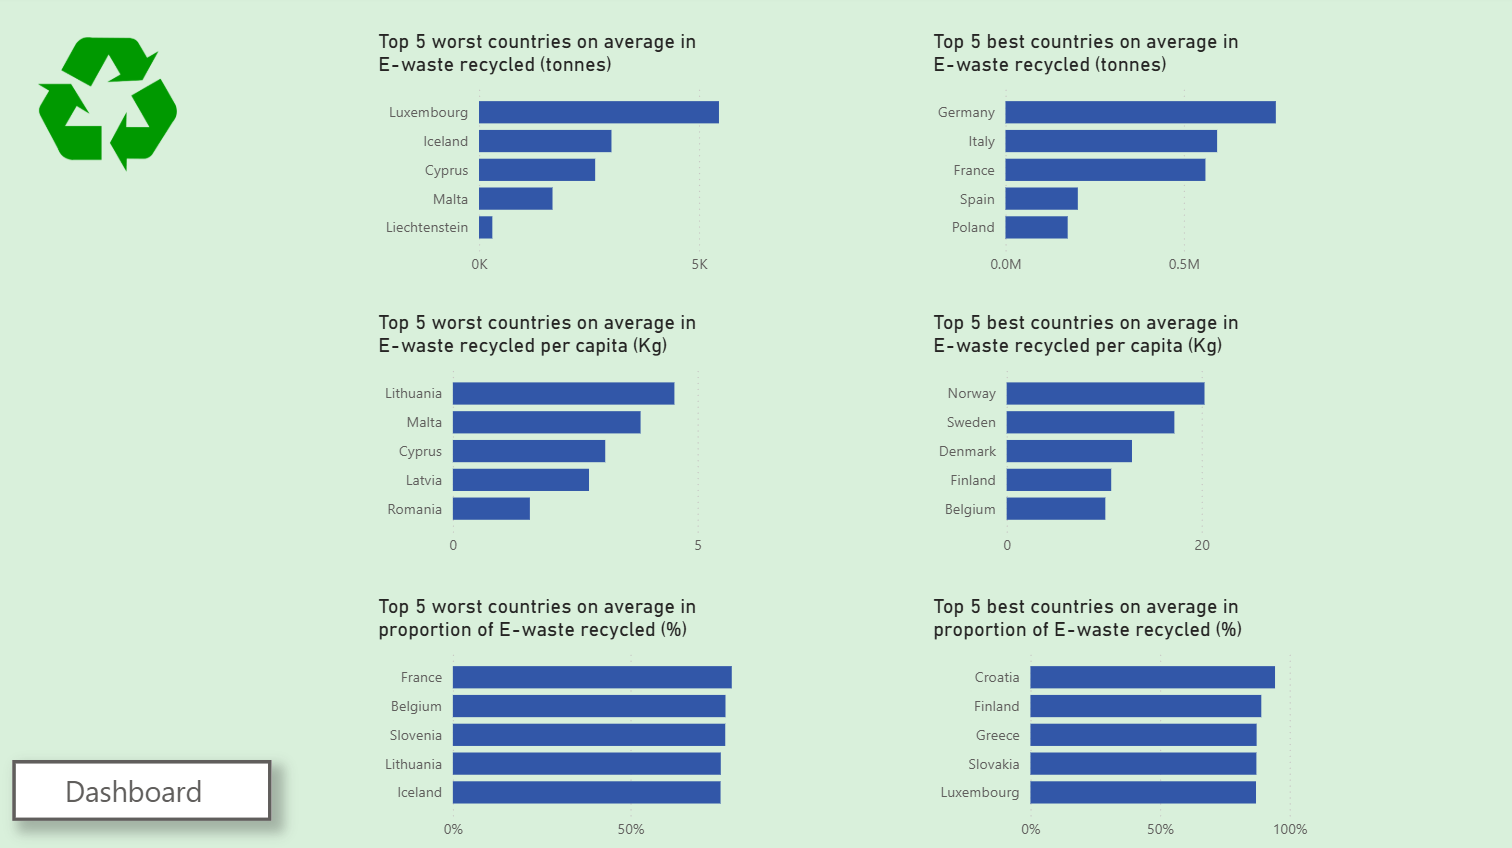

Layout of this report page (visuals, bound fields, positions):
{"tool":"powerbi","page":{"name":"Consistency","canvas":[1280,720],"ordinal":4},"visuals":[{"type":"image","box":[30,28.3,126.7,126.7],"z":0},{"type":"actionButton","box":[13.3,643.7,218.1,51.4],"z":1000},{"type":"clusteredBarChart","title":"Top 5 worst countries on average in E-waste recycled (tonnes)","fields":{"Category":["Electronic Waste Recycled Countries.GeoAreaName"],"Y":["Avg(Electronic Waste Recycled Countries.E_waste_recycled_tonnes)"]},"box":[316,28,324,216],"z":2000},{"type":"clusteredBarChart","title":"Top 5 best countries on average in E-waste recycled (tonnes)","fields":{"Category":["Electronic Waste Recycled Countries.GeoAreaName"],"Y":["Avg(Electronic Waste Recycled Countries.E_waste_recycled_tonnes)"]},"box":[783,28,325,216],"z":3000},{"type":"clusteredBarChart","title":"Top 5 worst countries on average in E-waste recycled per capita (Kg)","fields":{"Category":["Electronic Waste Recycled Countries.GeoAreaName"],"Y":["Avg(Electronic Waste Recycled Countries.E-waste_recycled_per_capita_Kg)"]},"box":[316,265,324,216],"z":4000},{"type":"clusteredBarChart","title":"Top 5 best countries on average in E-waste recycled per capita (Kg)","fields":{"Category":["Electronic Waste Recycled Countries.GeoAreaName"],"Y":["Avg(Electronic Waste Recycled Countries.E-waste_recycled_per_capita_Kg)"]},"box":[783,265,325,216],"z":5000},{"type":"clusteredBarChart","title":"Top 5 worst countries on average in proportion of E-waste recycled (%)","fields":{"Category":["Electronic Waste Recycled Countries.GeoAreaName"],"Y":["Avg(Electronic Waste Recycled Countries.Proportion_e_waste_recycled_percent)"]},"box":[316,504,324,216],"z":6000},{"type":"clusteredBarChart","title":"Top 5 best countries on average in proportion of E-waste recycled (%)","fields":{"Category":["Electronic Waste Recycled Countries.GeoAreaName"],"Y":["Avg(Electronic Waste Recycled Countries.Proportion_e_waste_recycled_percent)"]},"box":[783,504,325,216],"z":7000}]}

Visuals, with their boxes in screenshot pixels (x1, y1, x2, y2), scaled from the page's 1280x720 canvas onto the 1512x848 screenshot:
image: [left=35, top=33, right=185, bottom=183]
actionButton: [left=16, top=758, right=273, bottom=819]
"Top 5 worst countries on average in E-waste recycled (tonnes)" clusteredBarChart: [left=373, top=33, right=756, bottom=287]
"Top 5 best countries on average in E-waste recycled (tonnes)" clusteredBarChart: [left=925, top=33, right=1309, bottom=287]
"Top 5 worst countries on average in E-waste recycled per capita (Kg)" clusteredBarChart: [left=373, top=312, right=756, bottom=567]
"Top 5 best countries on average in E-waste recycled per capita (Kg)" clusteredBarChart: [left=925, top=312, right=1309, bottom=567]
"Top 5 worst countries on average in proportion of E-waste recycled (%)" clusteredBarChart: [left=373, top=594, right=756, bottom=847]
"Top 5 best countries on average in proportion of E-waste recycled (%)" clusteredBarChart: [left=925, top=594, right=1309, bottom=847]
